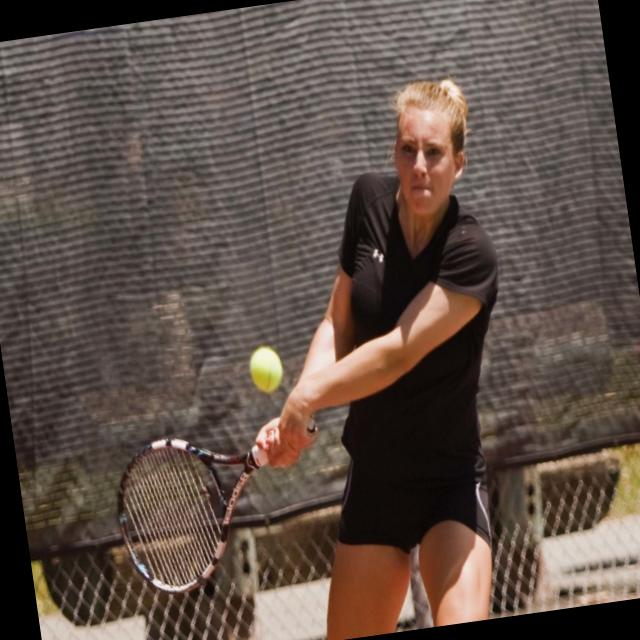Tennis Ball: (246, 344, 284, 392)
